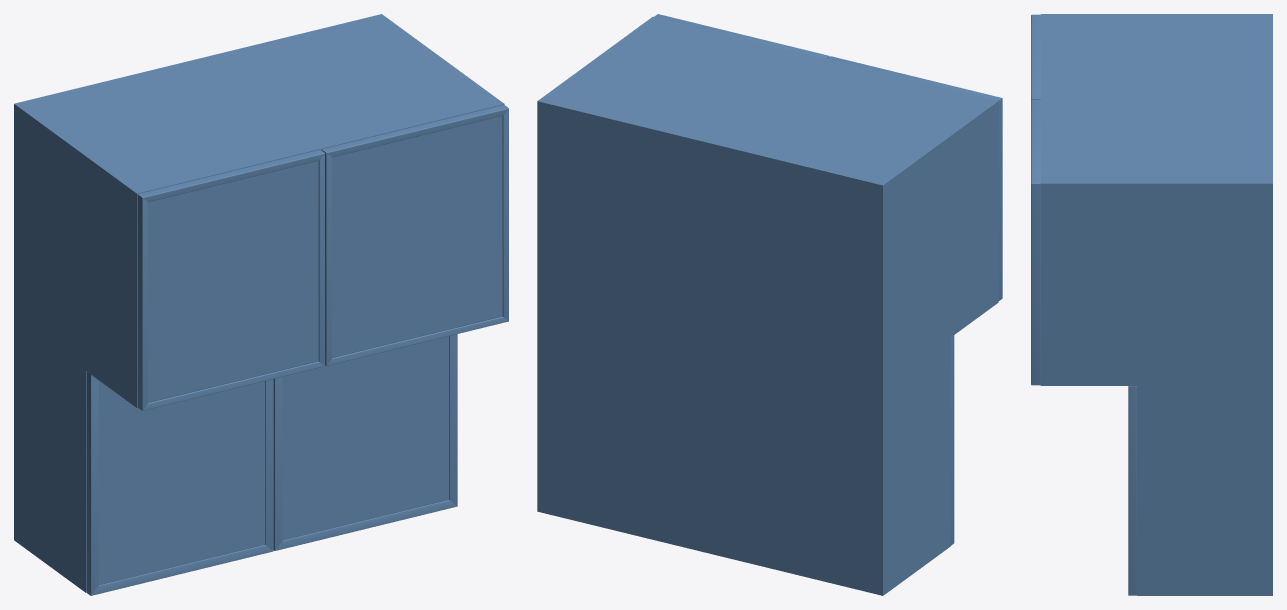
The model's file is c_top.gltf.
The picture shows the model from 3 angles, left to right: view 1: azimuth 30°, elevation 25°; view 2: azimuth 150°, elevation 25°; view 3: azimuth 270°, elevation 25°; orthographic projection. The views are drawn at different scales.
Visible parts, largest first — view 1: Rectangle027, Box8222893, Box8222894, Rectangle017, Rectangle018, Rectangle028, Box8222873, Rectangle047, Rectangle048; view 2: Rectangle027, Rectangle028, Box8222873, Box8222874, Rectangle047, Rectangle017, Rectangle048; view 3: Rectangle028, Box8222874, Rectangle027, Rectangle048, Rectangle018, Rectangle047.
Boxes of the visible parts, x1,y1,x2,y2 form: Rectangle027: (14, 59, 320, 407); Box8222893: (148, 161, 318, 402); Box8222894: (332, 116, 502, 357); Rectangle017: (86, 371, 273, 595); Rectangle018: (273, 334, 457, 550); Rectangle028: (198, 14, 504, 150); Box8222873: (14, 318, 86, 592); Rectangle047: (137, 149, 324, 410); Rectangle048: (321, 105, 508, 365); Rectangle027: (710, 59, 998, 386); Rectangle028: (537, 16, 825, 344); Box8222873: (710, 338, 950, 595); Box8222874: (537, 303, 710, 553); Rectangle047: (827, 56, 1002, 300); Rectangle017: (950, 335, 954, 545); Rectangle048: (654, 14, 829, 58); Rectangle028: (1040, 98, 1272, 385); Box8222874: (1137, 386, 1272, 595); Rectangle027: (1040, 14, 1272, 98); Rectangle048: (1031, 99, 1040, 385); Rectangle018: (1128, 386, 1136, 595); Rectangle047: (1031, 14, 1040, 99).
Bounding box in the file's own units: 1.01 × 1.14 × 0.6055.
